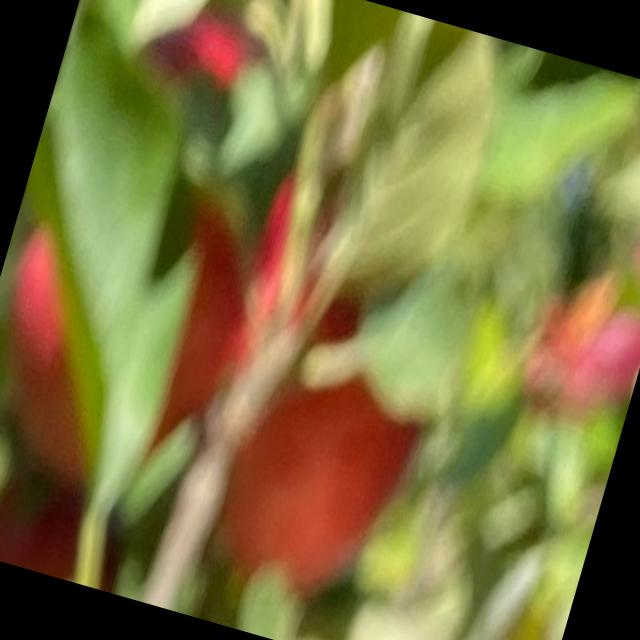Apples: (0, 0, 348, 522), (204, 272, 448, 605)
